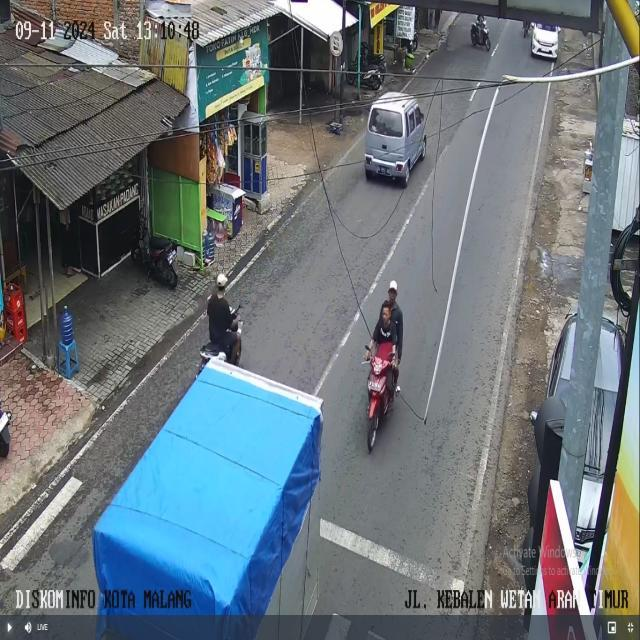Helmet: (216, 273, 228, 289), (389, 280, 397, 291)
Number Plate: (167, 250, 177, 264), (378, 167, 388, 174)
